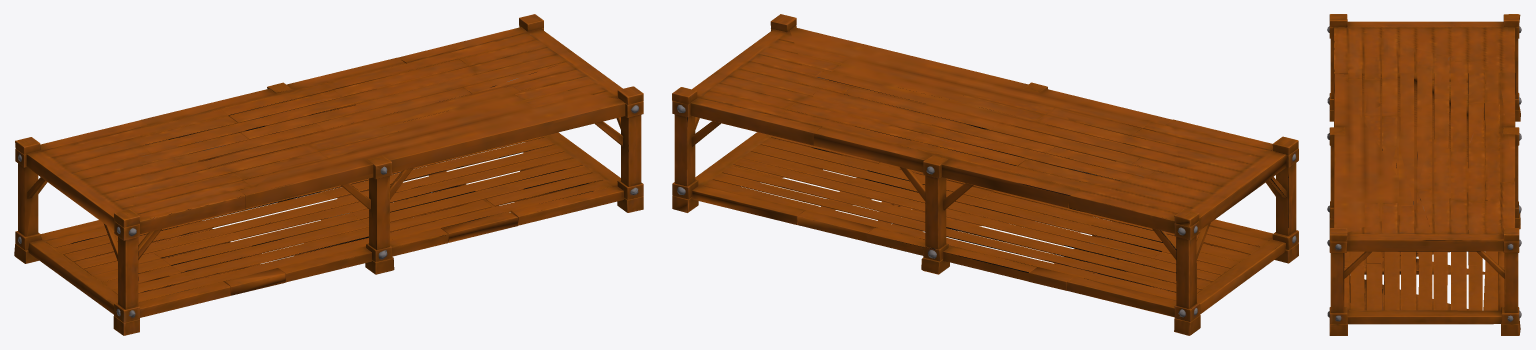
Rendered from table.glb.
3 views of the same model, side by side, from view 1: azimuth 30°, elevation 25°; view 2: azimuth 150°, elevation 25°; view 3: azimuth 270°, elevation 25° (orthographic). The views are drawn at different scales.
Visible parts, largest first — view 1: geometry_0; view 2: geometry_0; view 3: geometry_0.
Boxes of the visible parts, x1=… form: geometry_0: x1=14, y1=14, x2=643, y2=335; geometry_0: x1=672, y1=14, x2=1298, y2=335; geometry_0: x1=1327, y1=14, x2=1521, y2=335.
Size of the model in its own units: 0.9497 by 0.2017 by 0.3511.
1 material, 1 textured.
